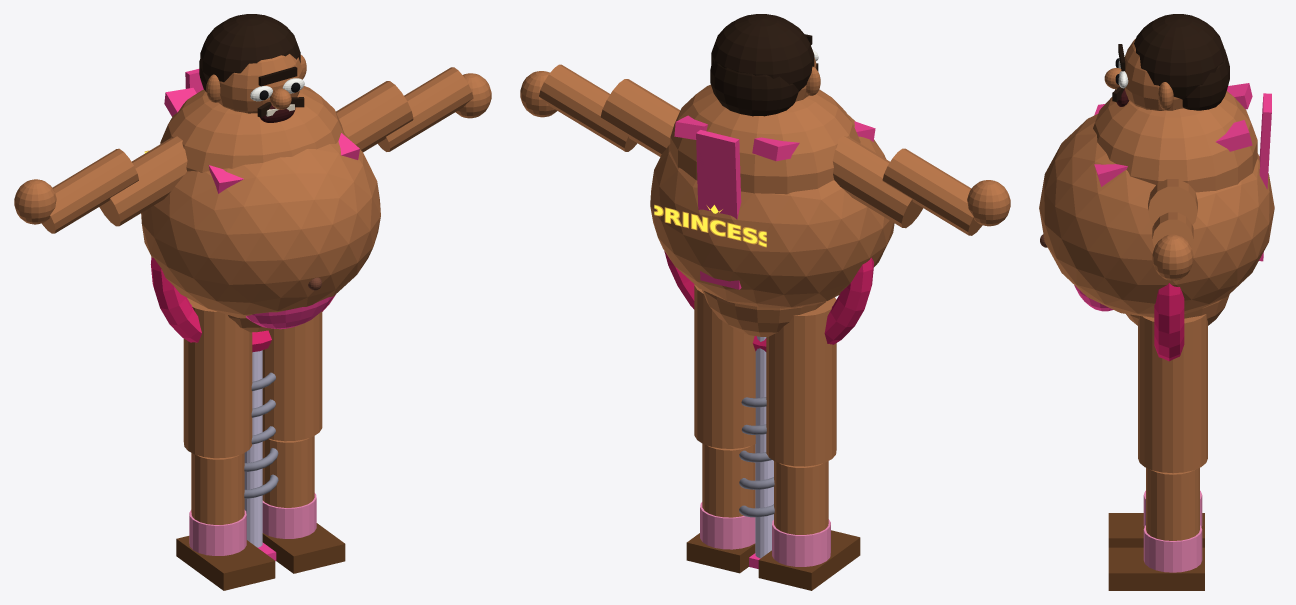
Rendered from Pogo_Princess.glb.
3 renders of one model, left to right at view 1: azimuth 30°, elevation 25°; view 2: azimuth 150°, elevation 25°; view 3: azimuth 270°, elevation 25°, orthographic. The views are drawn at different scales.
Visible parts, largest first — view 1: Belly, Thigh_L, Chest, Thigh_R, HairCap, Forearm_L, UpperArm_L, Shin_L, UpperArm_R, Forearm_R, Shin_R, Sandal_L (+11 smaller); view 2: Belly, Chest, Thigh_L, Thigh_R, HairCap, Forearm_L, UpperArm_L, Shin_L, SpineStrap, UpperArm_R, Forearm_R, Shin_R (+13 smaller); view 3: Belly, Chest, Thigh_R, HairCap, Shin_R, Sandal_R, Waistband, Sock_R, UpperArm_R, Head, Hand_R, Sandal_L (+7 smaller).
Boxes of the visible parts, <box> form: Belly: <box>141,133,380,317</box>; Thigh_L: <box>183,298,252,458</box>; Chest: <box>160,86,344,172</box>; Thigh_R: <box>262,311,322,441</box>; HairCap: <box>200,14,300,82</box>; Forearm_L: <box>42,148,138,233</box>; UpperArm_L: <box>99,136,187,226</box>; Shin_L: <box>191,453,244,524</box>; UpperArm_R: <box>336,81,413,152</box>; Forearm_R: <box>378,67,473,151</box>; Shin_R: <box>262,436,314,507</box>; Sandal_L: <box>176,536,275,590</box>; Belly: <box>650,114,894,308</box>; Chest: <box>670,84,860,194</box>; Thigh_L: <box>766,297,836,466</box>; Thigh_R: <box>694,284,755,448</box>; HairCap: <box>711,14,814,91</box>; Forearm_L: <box>882,148,982,235</box>; UpperArm_L: <box>832,135,923,228</box>; Shin_L: <box>774,461,828,534</box>; SpineStrap: <box>696,130,741,289</box>; UpperArm_R: <box>600,79,680,156</box>; Forearm_R: <box>539,64,637,151</box>; Shin_R: <box>702,443,755,517</box>; Belly: <box>1039,114,1274,317</box>; Chest: <box>1093,91,1257,192</box>; Thigh_R: <box>1138,314,1207,473</box>; HairCap: <box>1134,14,1226,99</box>; Shin_R: <box>1146,468,1199,540</box>; Sandal_R: <box>1108,547,1204,590</box>; Waistband: <box>1154,283,1184,361</box>; Sock_R: <box>1143,525,1202,572</box>; UpperArm_R: <box>1148,179,1197,225</box>; Head: <box>1124,39,1183,110</box>; Hand_R: <box>1152,234,1193,280</box>; Sandal_L: <box>1108,513,1204,547</box>.
Bounding box in the file's own units: 1.55 × 1.67 × 0.68.
Materials: 16 (1 with a texture image).
